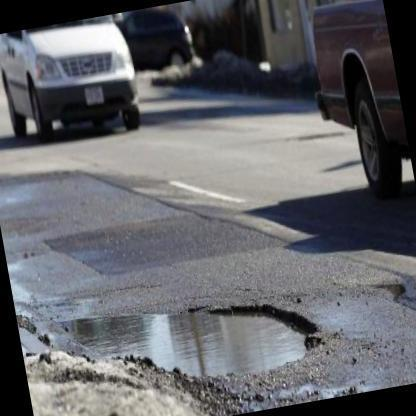pothole: (17, 297, 326, 382)
